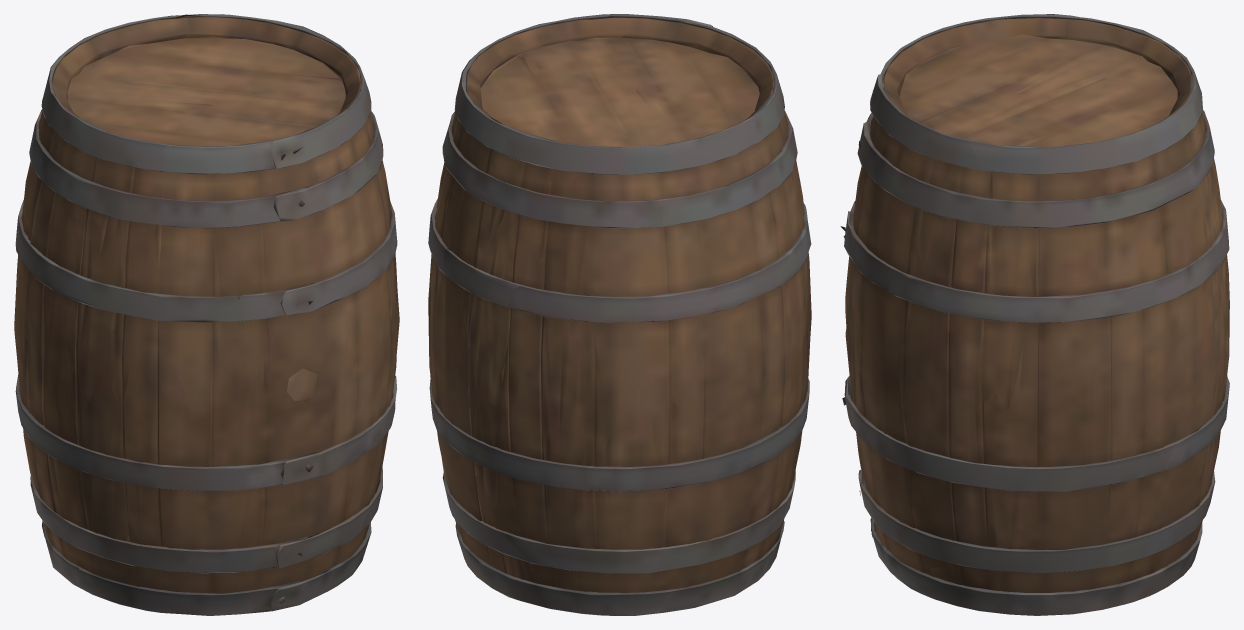
Rendered from StorageBox_Barrel_C.glb.
3 renders of one model, left to right at view 1: azimuth 30°, elevation 25°; view 2: azimuth 150°, elevation 25°; view 3: azimuth 270°, elevation 25°, orthographic.
Parts seen in each view (by area): view 1: SM_BarrelStorage; view 2: SM_BarrelStorage; view 3: SM_BarrelStorage.
Boxes of the visible parts, bbox=[...] form: SM_BarrelStorage: bbox=[14, 14, 399, 615]; SM_BarrelStorage: bbox=[428, 14, 811, 615]; SM_BarrelStorage: bbox=[840, 14, 1229, 615].
Bounding box in the file's own units: 0.6626 × 0.8947 × 0.6726.
1 material, 1 textured.
